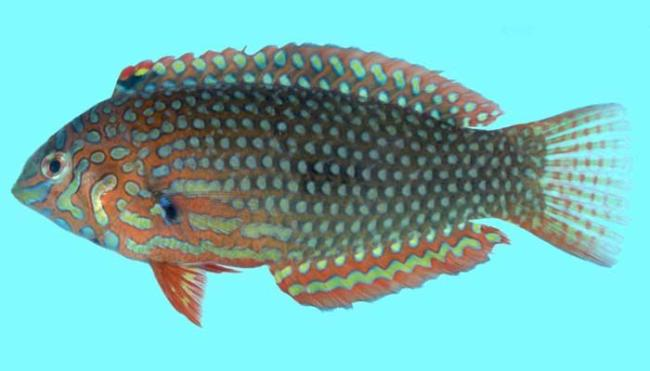fish: (11, 42, 634, 329)
